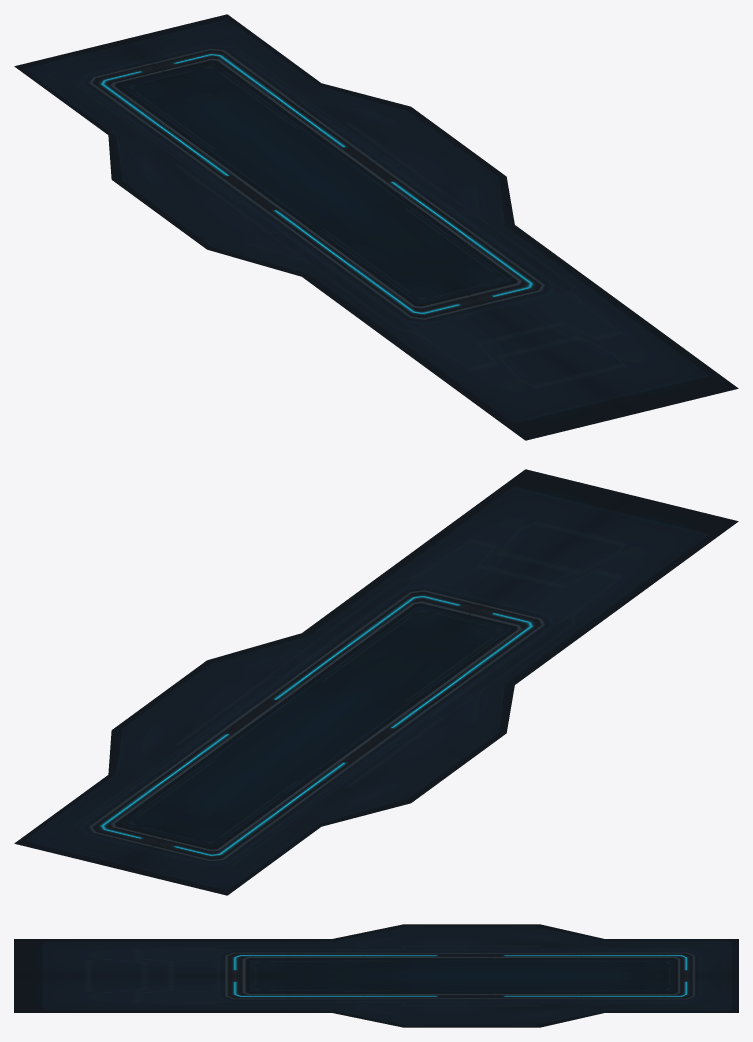
File: ts_nxlcdm001.FBX
The picture shows the model from 3 angles, top to bottom: view 1: azimuth 30°, elevation 25°; view 2: azimuth 150°, elevation 25°; view 3: azimuth 270°, elevation 25°; orthographic projection. The views are drawn at different scales.
Parts seen in each view (by area): view 1: ts_nxlcdm001; view 2: ts_nxlcdm001; view 3: ts_nxlcdm001.
Boxes of the visible parts, x1,y1,x2,y2 form: ts_nxlcdm001: (14,14,738,440); ts_nxlcdm001: (14,469,738,895); ts_nxlcdm001: (14,924,738,1027).
Size of the model in its own units: 19.2 by 1.61e-14 by 56.78.
